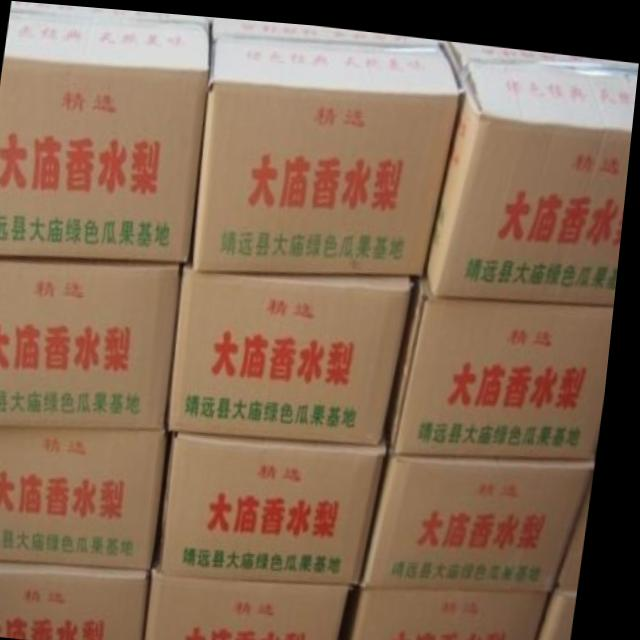box: (198, 14, 459, 267), (0, 1, 210, 261), (431, 34, 639, 293), (176, 264, 417, 435), (398, 267, 619, 448), (171, 427, 397, 576), (369, 446, 604, 585), (0, 254, 186, 426), (0, 421, 174, 566), (157, 566, 360, 640), (0, 560, 161, 640), (363, 580, 557, 640), (567, 478, 599, 582), (549, 580, 588, 640)
